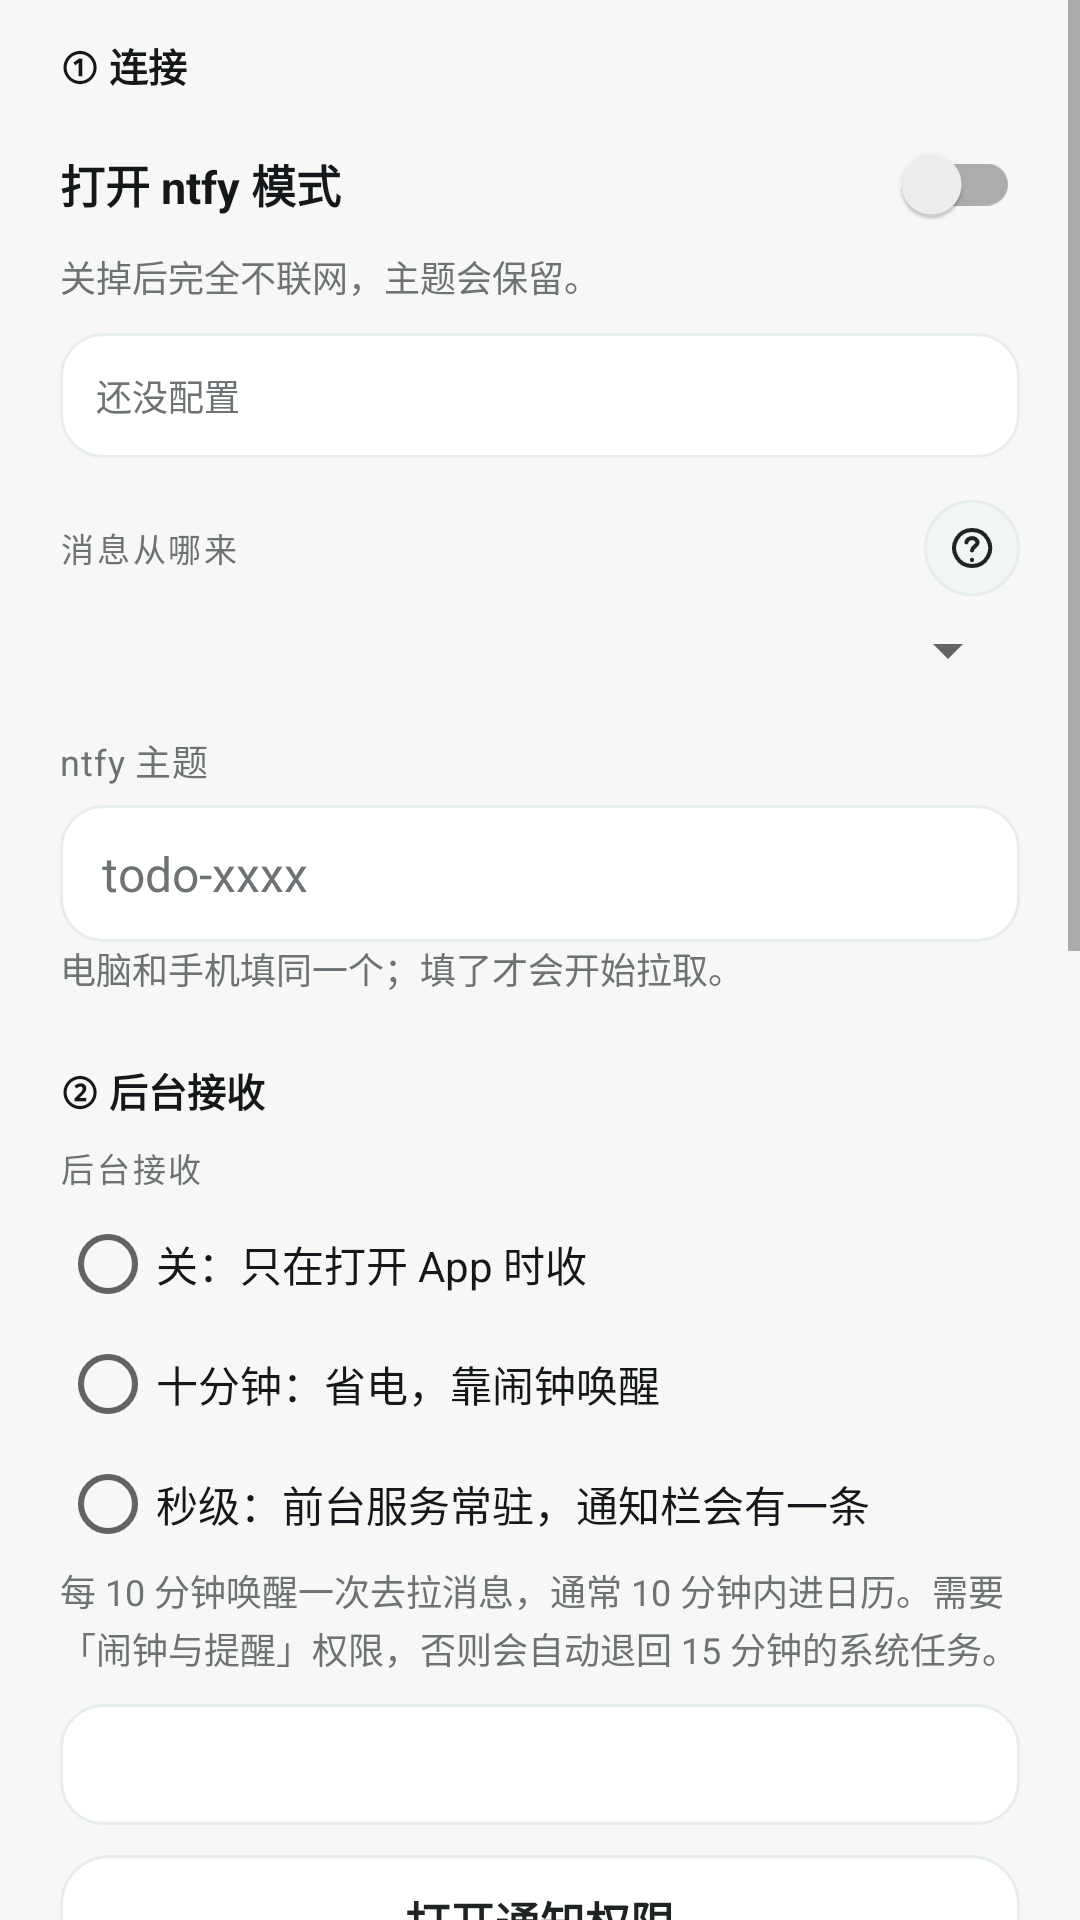

Where to tap for icons on this 1080×1920 app screen, as (x=x, y=y):
看说明: (x=972, y=548)
